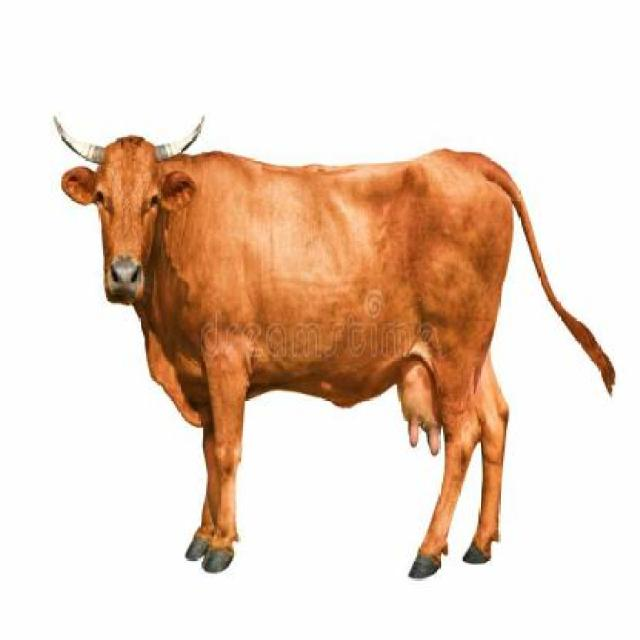Cow: (49, 106, 618, 586)
